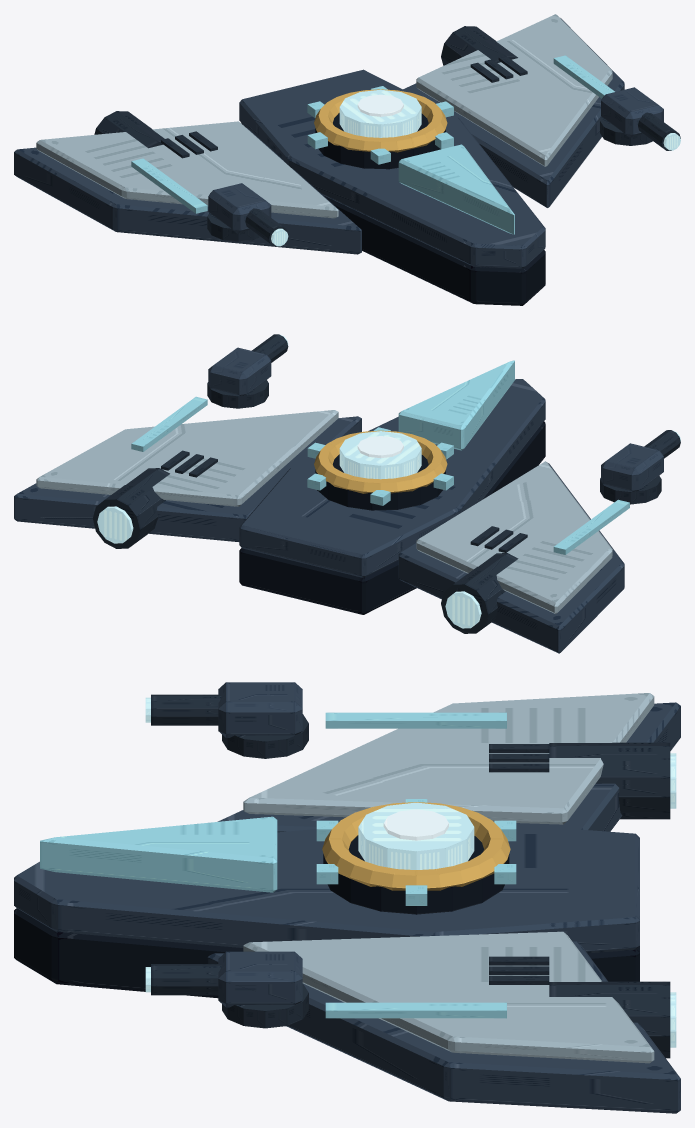
File: boss-01-scout.glb
3 renders of one model, top to bottom at view 1: azimuth 30°, elevation 25°; view 2: azimuth 150°, elevation 25°; view 3: azimuth 270°, elevation 25°, orthographic. The views are drawn at different scales.
Parts seen in each view (by area): view 1: Boss_Ship_Geometry, Core_Geometry, Turret_L_Geometry, Turret_R_Geometry; view 2: Boss_Ship_Geometry, Core_Geometry, Turret_R_Geometry, Turret_L_Geometry; view 3: Boss_Ship_Geometry, Core_Geometry, Turret_R_Geometry, Turret_L_Geometry.
Part boxes in pixels (x1,y1,x2,y2): Boss_Ship_Geometry: [14, 14, 624, 305]; Core_Geometry: [307, 86, 453, 169]; Turret_L_Geometry: [207, 183, 288, 246]; Turret_R_Geometry: [600, 87, 680, 150]; Boss_Ship_Geometry: [14, 360, 629, 653]; Core_Geometry: [307, 427, 453, 510]; Turret_R_Geometry: [207, 334, 288, 408]; Turret_L_Geometry: [600, 430, 680, 504]; Boss_Ship_Geometry: [14, 693, 680, 1113]; Core_Geometry: [316, 799, 516, 914]; Turret_R_Geometry: [145, 951, 308, 1028]; Turret_L_Geometry: [145, 682, 308, 758].
Size of the model in its own units: 7.4 by 1.26 by 5.55.
8 materials, 8 textured.
